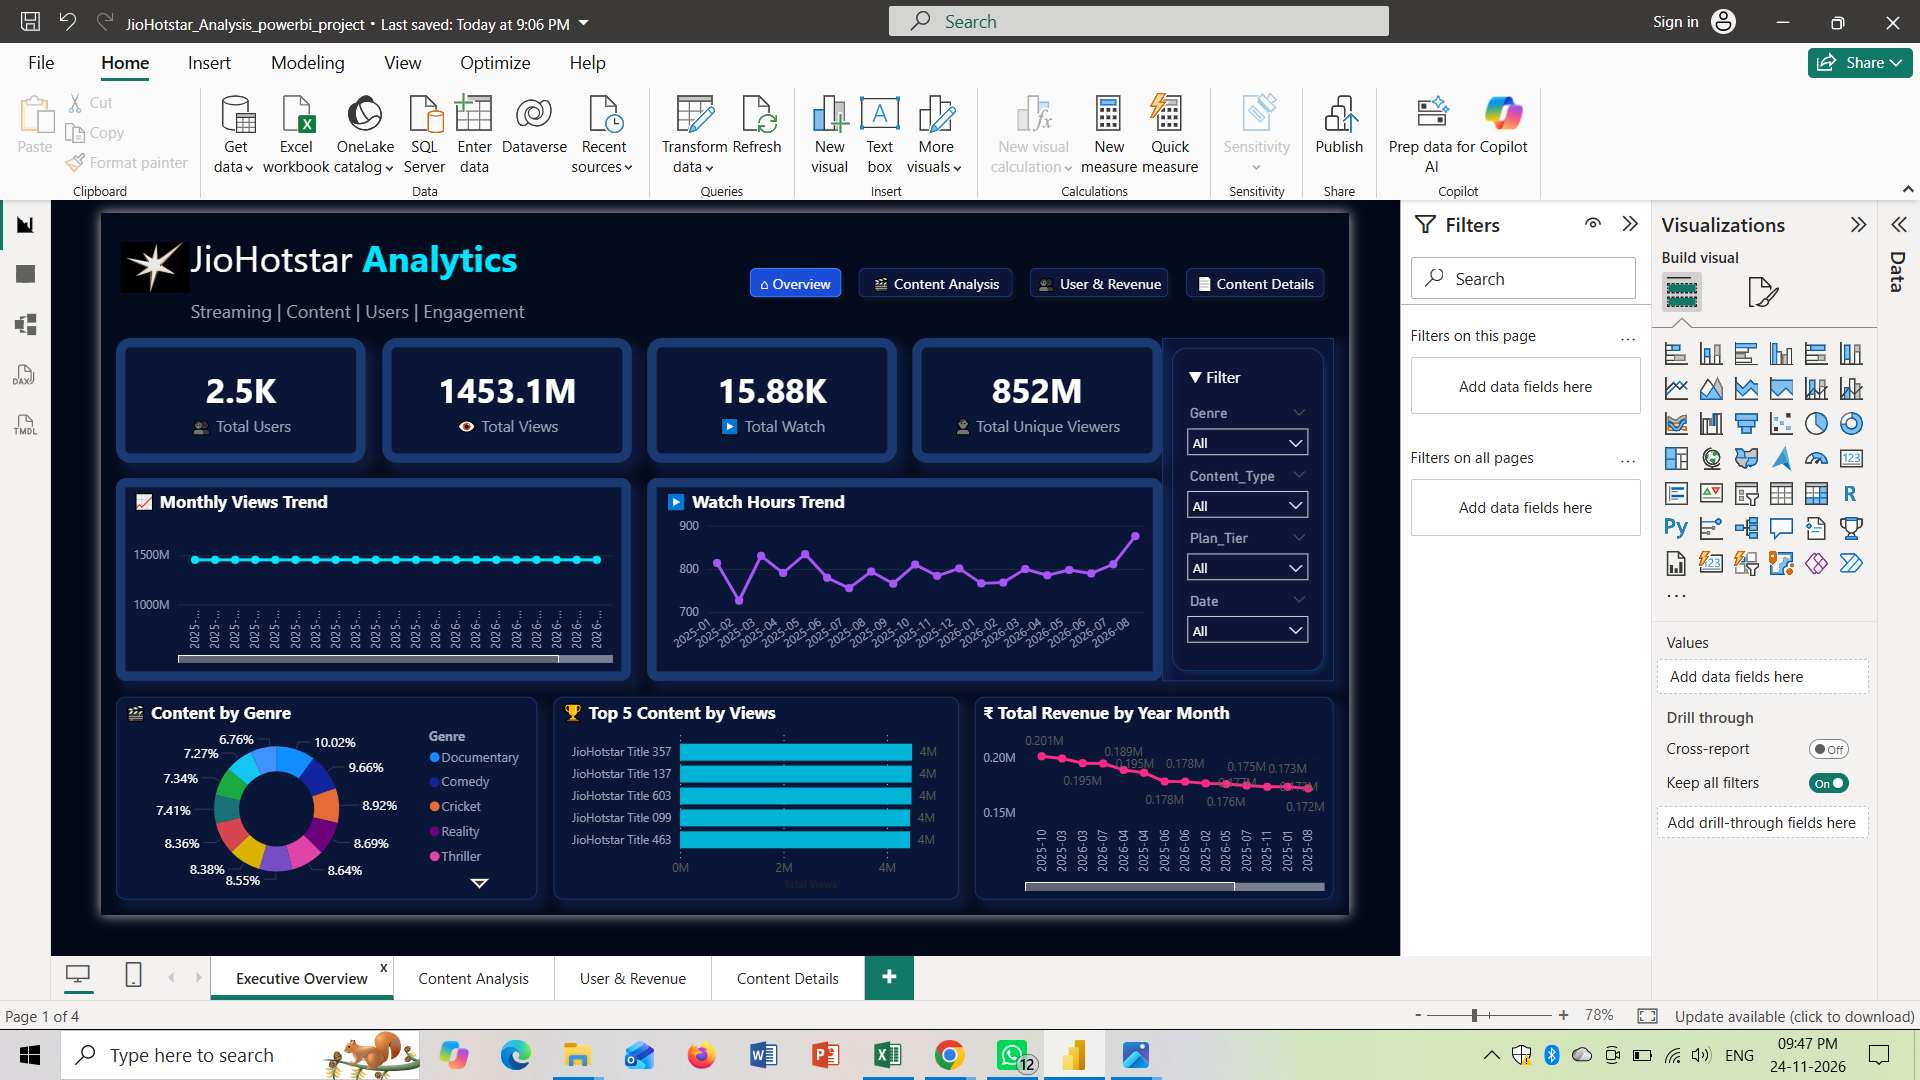

The page's visual inventory and layout, read from the dashboard file:
{"tool":"powerbi","page":{"name":"Executive Overview","canvas":[1280,720],"ordinal":0},"visuals":[{"type":"shape","box":[1088,128,176,352],"z":0},{"type":"card","fields":{"Values":["Measures(2).Total Users"]},"box":[16,128,256,128],"z":1000},{"type":"card","fields":{"Values":["Measures(2).Total Views"]},"box":[288,128,256,128],"z":2000},{"type":"card","fields":{"Values":["Viewing_Sessions.Total Watch Hours"]},"box":[560,128,256,128],"z":3000},{"type":"card","fields":{"Values":["Content_Performance.Total Unique Viewers"]},"box":[832,128,256,128],"z":4000},{"type":"textbox","box":[16,16,1248,112],"z":5000},{"type":"image","box":[16,16,80,80],"z":6000},{"type":"textbox","box":[1104,144,144,48],"z":7000},{"type":"slicer","fields":{"Values":["Content.Genre"]},"box":[1104,192,144,64],"z":8000},{"type":"slicer","fields":{"Values":["Content.Content_Type"]},"box":[1104,256,144,80],"z":9000},{"type":"slicer","fields":{"Values":["Plans.Plan_Tier"]},"box":[1104,320,144,64],"z":10000},{"type":"slicer","fields":{"Values":["Date.Date"]},"box":[1104,384,144,80],"z":11000},{"type":"lineChart","title":"📈 Monthly Views Trend","fields":{"Y":["Measures(2).Total Views"],"Category":["Date.Year Month"]},"box":[16,272,528,208],"z":12000},{"type":"lineChart","title":"▶️ Watch Hours Trend","fields":{"Category":["Date.Year Month"],"Y":["Viewing_Sessions.Total Watch Hours"]},"box":[560,272,528,208],"z":13000},{"type":"donutChart","title":"🎬 Content by Genre","fields":{"Y":["Measures(2).Total Views"],"Category":["Content.Genre"]},"box":[16,496,432,208],"z":14000},{"type":"clusteredBarChart","title":"🏆 Top 5 Content by Views","fields":{"Category":["Content.Content_Name"],"Y":["Measures(2).Total Views"]},"box":[464,496,416,208],"z":15000},{"type":"lineChart","title":"₹ Total Revenue by Year Month","fields":{"Category":["Date.Year Month"],"Y":["Measures(2).Total Revenue"]},"box":[896,496,368,208],"z":16000},{"type":"actionButton","box":[656,48,112,48],"z":17000},{"type":"actionButton","box":[768,48,176,48],"z":18000},{"type":"actionButton","box":[944,48,160,48],"z":19000},{"type":"actionButton","box":[1104,48,160,48],"z":20000}]}

Visuals, with their boxes on the page's 1280x720 design canvas (x1, y1, x2, y2). These are canvas units, not pixel positions in the 1920x1080 screenshot, which may show the page scaled, cropped or inside an application window:
shape: [x1=1088, y1=128, x2=1264, y2=480]
card - Measures(2).Total Users: [x1=16, y1=128, x2=272, y2=256]
card - Measures(2).Total Views: [x1=288, y1=128, x2=544, y2=256]
card - Viewing_Sessions.Total Watch Hours: [x1=560, y1=128, x2=816, y2=256]
card - Content_Performance.Total Unique Viewers: [x1=832, y1=128, x2=1088, y2=256]
textbox: [x1=16, y1=16, x2=1264, y2=128]
image: [x1=16, y1=16, x2=96, y2=96]
textbox: [x1=1104, y1=144, x2=1248, y2=192]
slicer - Content.Genre: [x1=1104, y1=192, x2=1248, y2=256]
slicer - Content.Content_Type: [x1=1104, y1=256, x2=1248, y2=336]
slicer - Plans.Plan_Tier: [x1=1104, y1=320, x2=1248, y2=384]
slicer - Date.Date: [x1=1104, y1=384, x2=1248, y2=464]
"📈 Monthly Views Trend" lineChart: [x1=16, y1=272, x2=544, y2=480]
"▶️ Watch Hours Trend" lineChart: [x1=560, y1=272, x2=1088, y2=480]
"🎬 Content by Genre" donutChart: [x1=16, y1=496, x2=448, y2=704]
"🏆 Top 5 Content by Views" clusteredBarChart: [x1=464, y1=496, x2=880, y2=704]
"₹ Total Revenue by Year Month" lineChart: [x1=896, y1=496, x2=1264, y2=704]
actionButton: [x1=656, y1=48, x2=768, y2=96]
actionButton: [x1=768, y1=48, x2=944, y2=96]
actionButton: [x1=944, y1=48, x2=1104, y2=96]
actionButton: [x1=1104, y1=48, x2=1264, y2=96]
